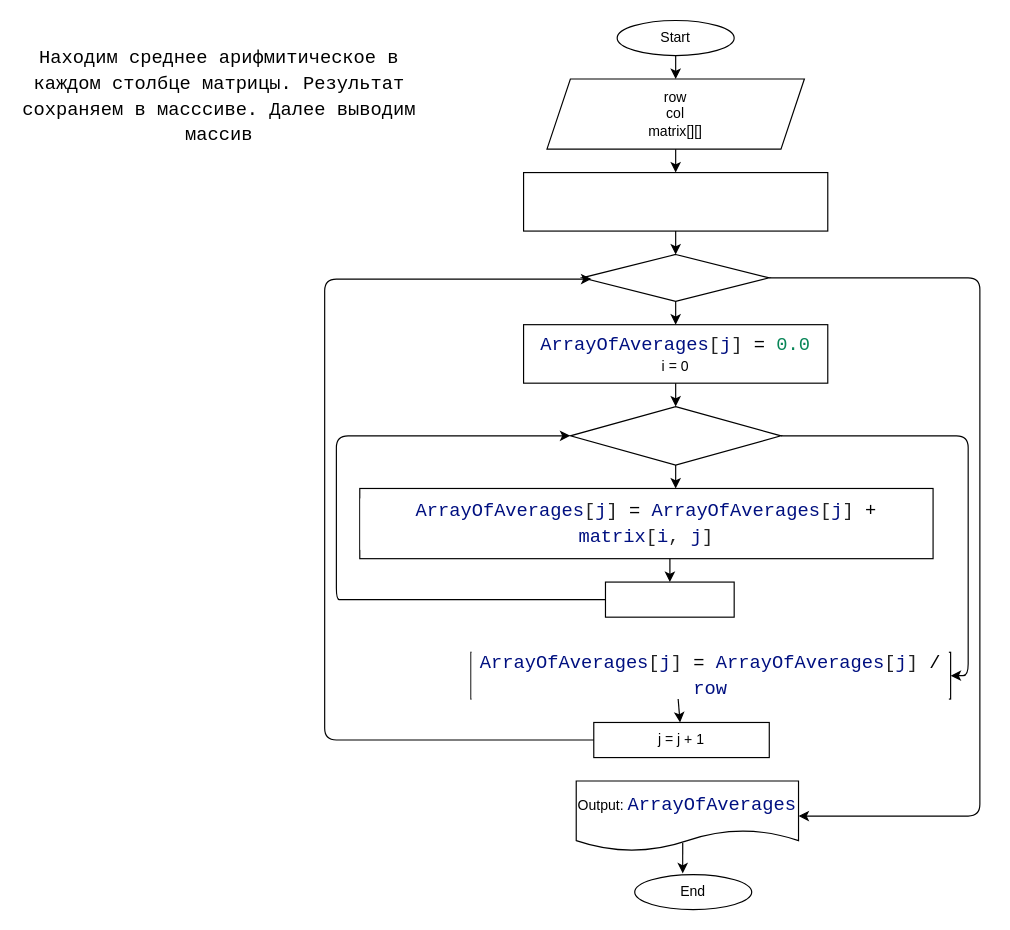
Image size: 1010x930. Some labels were removed from this diagram. The shapes that lost their labels are listed below. From the top down, each one's box as (x1, y1, x2, y2) in pixels, then its label:
(522, 171, 828, 231): ArrayОfАverages = new [col] j = 0
(581, 253, 769, 301): j < col
(569, 405, 781, 465): i < row
(604, 581, 734, 617): i = i + 1
